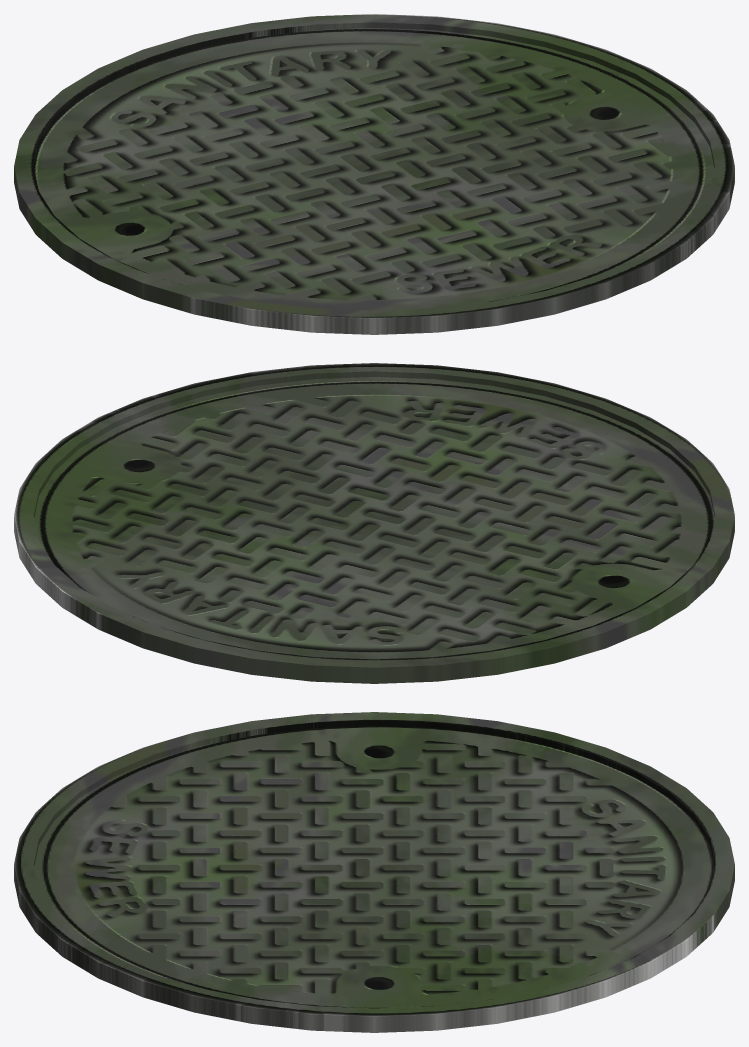
File: manholecover.fbx
3 views of the same model, one above another, from view 1: azimuth 30°, elevation 25°; view 2: azimuth 150°, elevation 25°; view 3: azimuth 270°, elevation 25° (orthographic).
Visible parts, largest first — view 1: Disc; view 2: Disc; view 3: Disc.
Boxes of the visible parts, x1,y1,x2,y2 form: Disc: (14, 14, 734, 334); Disc: (14, 363, 734, 683); Disc: (14, 712, 734, 1032).
Size of the model in its own units: 200 by 4.98 by 200.
Materials: 1 (1 with a texture image).
